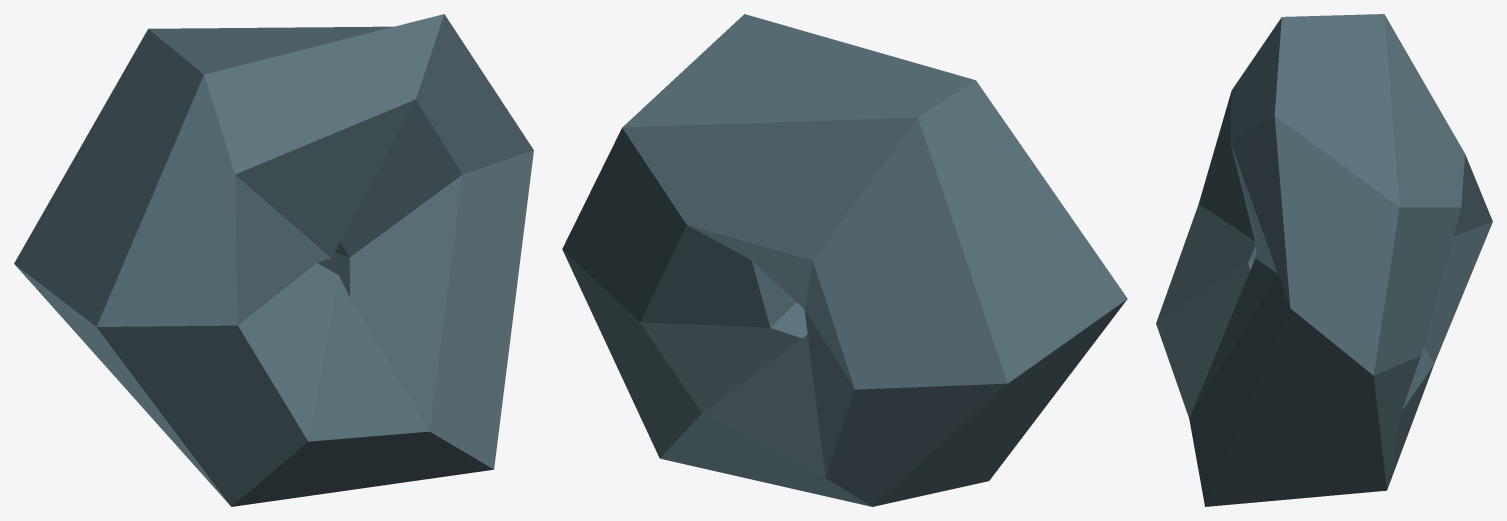
The picture shows the model from 3 angles, left to right: view 1: azimuth 30°, elevation 25°; view 2: azimuth 150°, elevation 25°; view 3: azimuth 270°, elevation 25°; orthographic projection. The views are drawn at different scales.
Parts seen in each view (by area): view 1: pTorus1; view 2: pTorus1; view 3: pTorus1.
Boxes of the visible parts, box(x1,y1,x2,y2) form: pTorus1: box(14, 14, 533, 506); pTorus1: box(562, 14, 1127, 506); pTorus1: box(1156, 14, 1492, 506).
Size of the model in its own units: 3.89 by 3.27 by 2.55.
